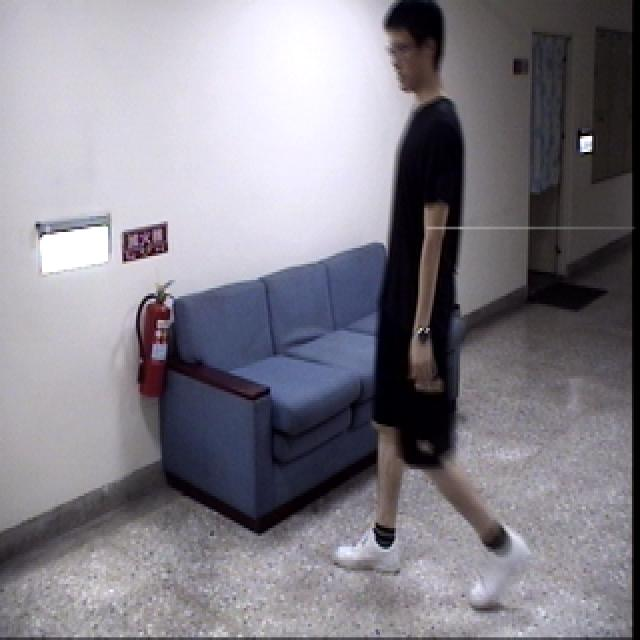stand: (334, 0, 552, 618)
